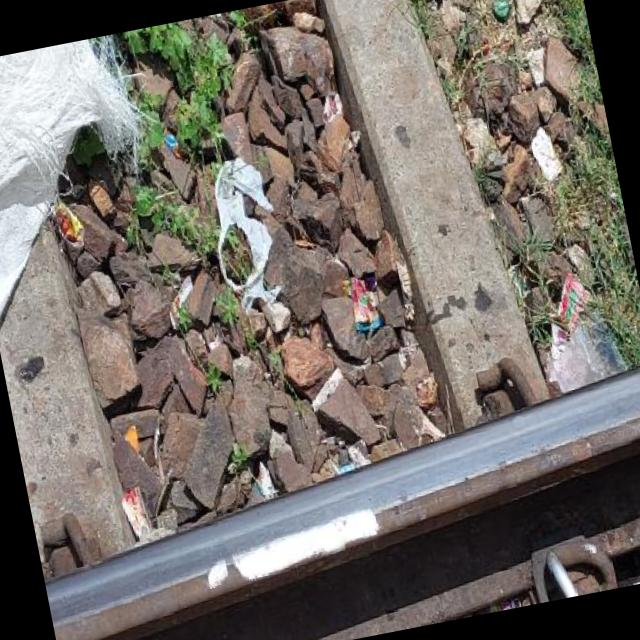non-defective: (23, 346, 640, 640)
